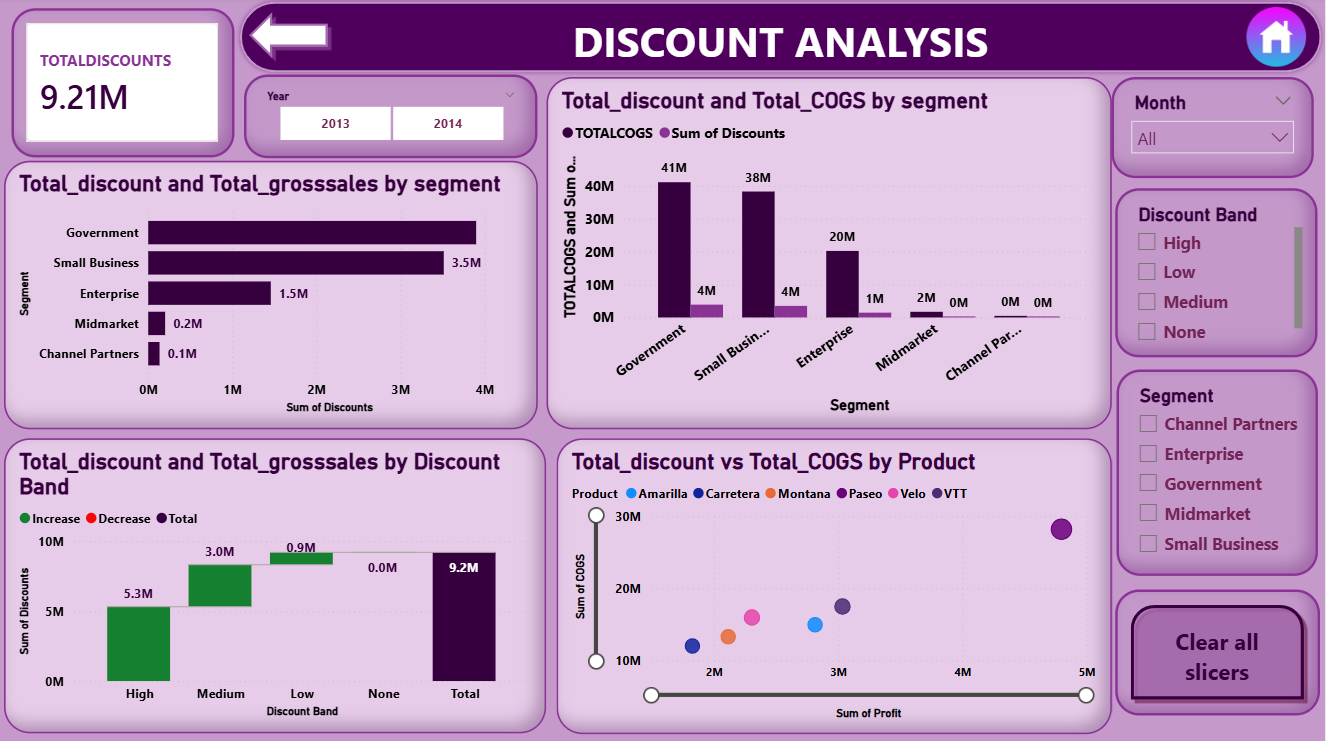

The dashboard page shown, as its layout file describes it:
{"tool":"powerbi","page":{"name":"DISCOUNT_ANALYSIS","canvas":[1280,720],"ordinal":3},"visuals":[{"type":"barChart","title":"Total_discount and Total_grosssales by segment","fields":{"Category":["financials.Segment"],"Y":["Sum(financials.Discounts)"]},"box":[4.8,158,515.2,259.4],"z":0},{"type":"waterfallChart","title":"Total_discount and Total_grosssales by Discount Band","fields":{"Category":["financials.Discount Band"],"Y":["Sum(financials.Discounts)"]},"box":[4.8,425.9,523.6,284.7],"z":1000},{"type":"scatterChart","title":"Total_discount vs Total_COGS by Product","fields":{"X":["Sum(financials.Profit)"],"Y":["Sum(financials.COGS)"],"Series":["financials.Product"],"Size":["CountNonNull(financials.Product)"]},"box":[538.1,425.9,535.7,285.9],"z":2000},{"type":"shape","box":[227.4,0,1052.9,77],"z":3000},{"type":"slicer","fields":{"Values":["financials.Date.Variation.Date Hierarchy.Year"]},"box":[236.5,74.8,283.5,80.8],"z":4000},{"type":"slicer","fields":{"Values":["financials.Segment"]},"box":[1078.6,359.5,194.2,199.1],"z":5000},{"type":"slicer","fields":{"Values":["financials.Date.Variation.Date Hierarchy.Month"]},"box":[1073.7,77.2,195.4,97.7],"z":6000},{"type":"actionButton","box":[1077.4,571.9,197.9,121.9],"z":7000},{"type":"slicer","fields":{"Values":["financials.Discount Band"]},"box":[1077.4,184.6,195.4,162.9],"z":8000},{"type":"shape","box":[236.5,9.7,85.7,54.3],"z":9000},{"type":"clusteredColumnChart","title":"Total_discount and Total_COGS by segment","fields":{"Category":["financials.Segment"],"Y":["financials.TOTALCOGS","Sum(financials.Discounts)"]},"box":[528.4,77.2,545.3,340.2],"z":10000},{"type":"cardVisual","fields":{"Data":["financials.TOTALDISCOUNTS"]},"box":[12.2,11,215.2,144.3],"z":11000},{"type":"image","box":[1196.8,9.7,72.4,57.9],"z":12000}]}

Visuals, with their boxes in screenshot pixels (x1, y1, x2, y2), scaled from the page's 1280x720 canvas onto the 1326x741 screenshot:
"Total_discount and Total_grosssales by segment" barChart: x1=5, y1=163, x2=539, y2=430
"Total_discount and Total_grosssales by Discount Band" waterfallChart: x1=5, y1=438, x2=547, y2=731
"Total_discount vs Total_COGS by Product" scatterChart: x1=557, y1=438, x2=1112, y2=733
shape: x1=236, y1=0, x2=1325, y2=79
slicer - financials.Date.Variation.Date Hierarchy.Year: x1=245, y1=77, x2=539, y2=160
slicer - financials.Segment: x1=1117, y1=370, x2=1319, y2=575
slicer - financials.Date.Variation.Date Hierarchy.Month: x1=1112, y1=79, x2=1315, y2=180
actionButton: x1=1116, y1=589, x2=1321, y2=714
slicer - financials.Discount Band: x1=1116, y1=190, x2=1319, y2=358
shape: x1=245, y1=10, x2=334, y2=66
"Total_discount and Total_COGS by segment" clusteredColumnChart: x1=547, y1=79, x2=1112, y2=430
cardVisual - financials.TOTALDISCOUNTS: x1=13, y1=11, x2=236, y2=160
image: x1=1240, y1=10, x2=1315, y2=70
